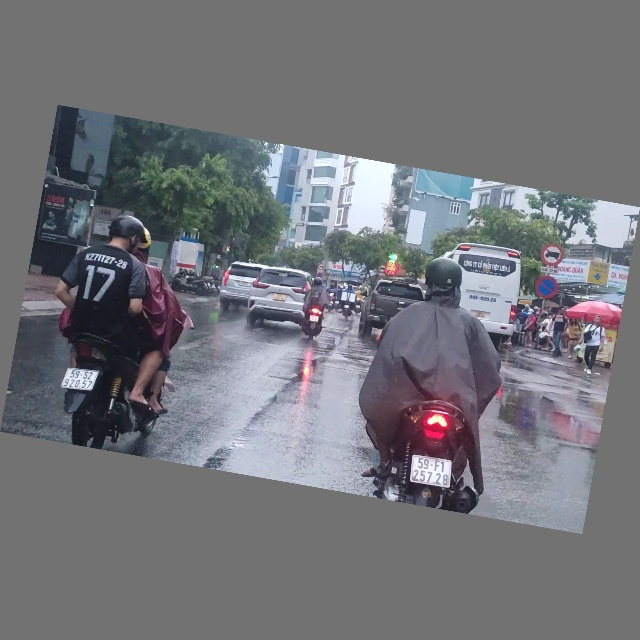P.106a*Xe tai: (539, 243, 566, 269), (378, 265, 387, 274), (318, 264, 325, 271)
P.131a: (534, 274, 561, 302)
